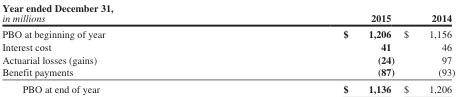table: (1, 1, 454, 93)
table column: (1, 1, 227, 93), (227, 1, 398, 93), (398, 1, 454, 93)
table column header: (1, 1, 454, 25)
table row: (1, 1, 454, 25), (1, 25, 454, 39), (1, 65, 454, 79), (1, 79, 454, 93), (1, 39, 454, 52), (1, 52, 454, 65)
